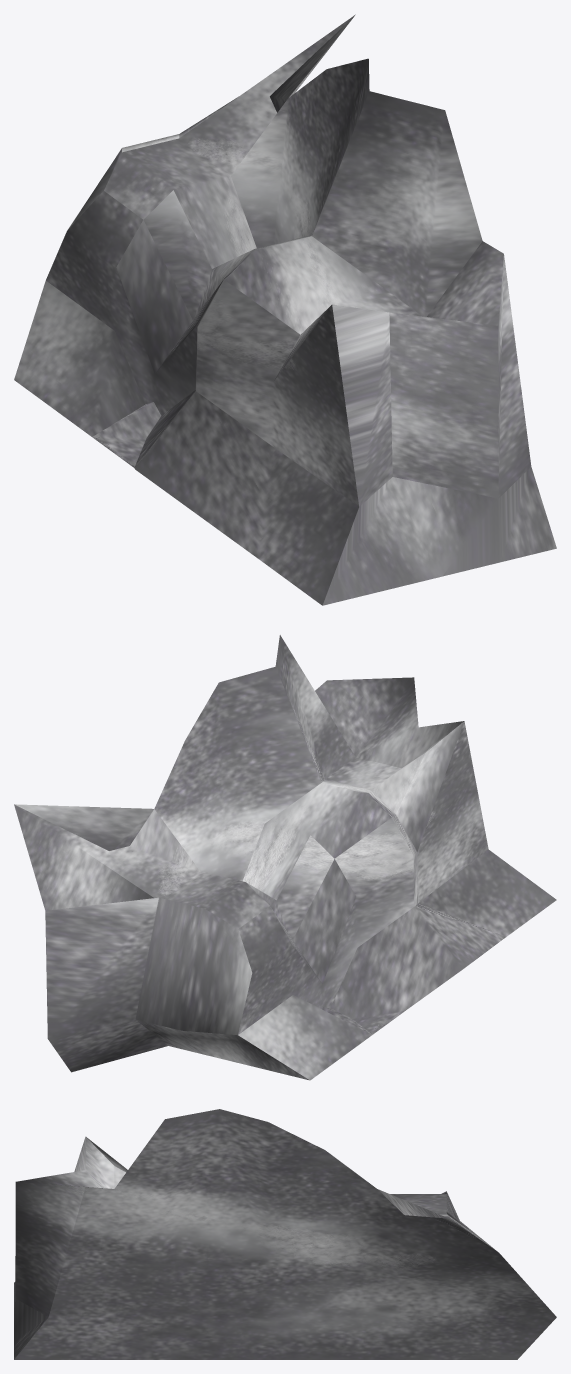
Rendered from Mountain13 - Level 1.FBX.
The picture shows the model from 3 angles, top to bottom: view 1: azimuth 30°, elevation 25°; view 2: azimuth 150°, elevation 25°; view 3: azimuth 270°, elevation 25°; orthographic projection. The views are drawn at different scales.
Parts seen in each view (by area): view 1: Mountain 13; view 2: Mountain 13; view 3: Mountain 13.
Part boxes in pixels (x1,y1,x2,y2): Mountain 13: [14, 14, 556, 605]; Mountain 13: [14, 635, 556, 1080]; Mountain 13: [14, 1109, 556, 1359].
Size of the model in its own units: 171 by 149 by 304.
1 material, 1 textured.
